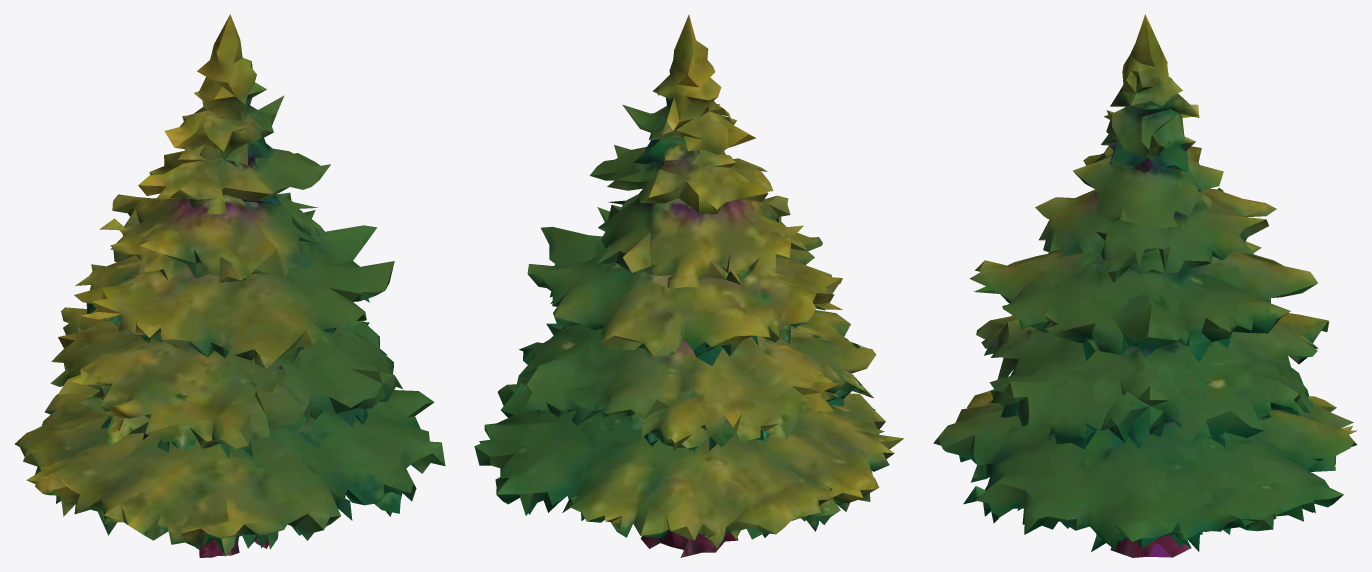
File: tree-pine-wide.glb
3 views of the same model, side by side, from view 1: azimuth 30°, elevation 25°; view 2: azimuth 150°, elevation 25°; view 3: azimuth 270°, elevation 25° (orthographic).
Visible parts, largest first — view 1: tree-pine-wide.raw; view 2: tree-pine-wide.raw; view 3: tree-pine-wide.raw.
Boxes of the visible parts, bbox=[...] form: tree-pine-wide.raw: bbox=[15, 14, 445, 557]; tree-pine-wide.raw: bbox=[474, 14, 903, 557]; tree-pine-wide.raw: bbox=[933, 14, 1357, 557].
Size of the model in its own units: 7.74 by 10.02 by 7.31.
1 material, 1 textured.
